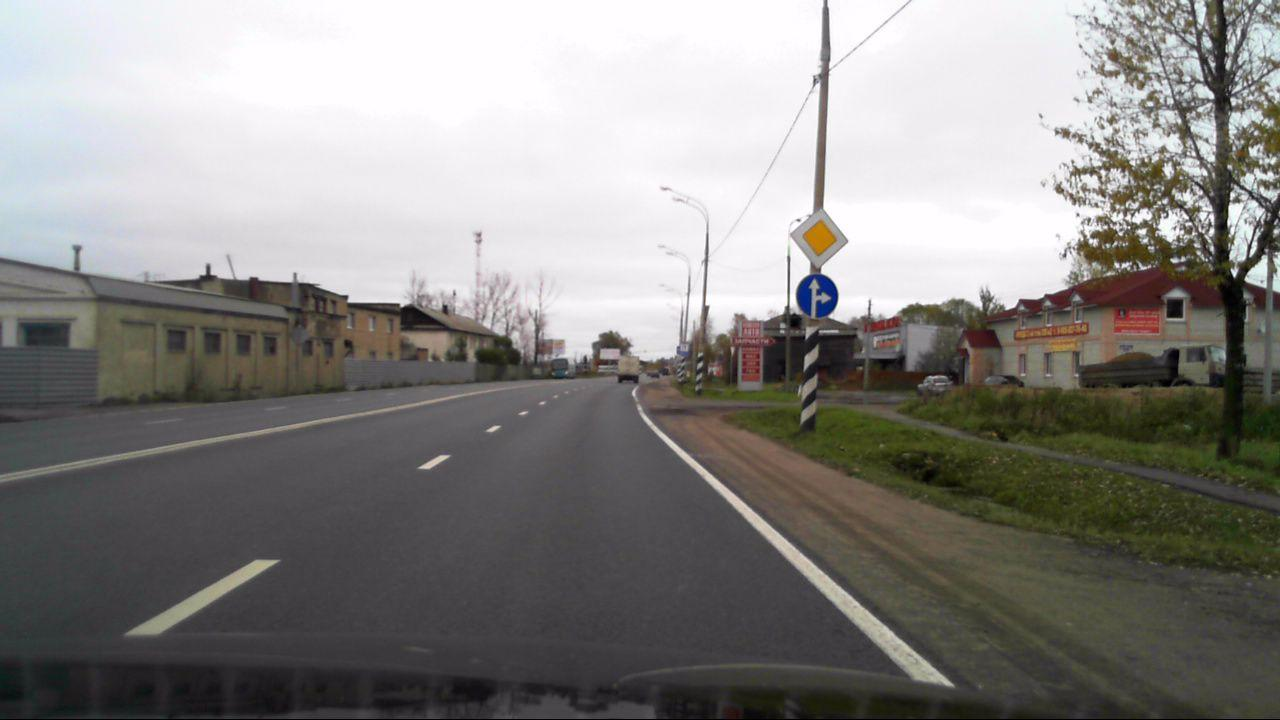2_1: (789, 206, 850, 272)
4_1_4: (796, 274, 837, 318)
